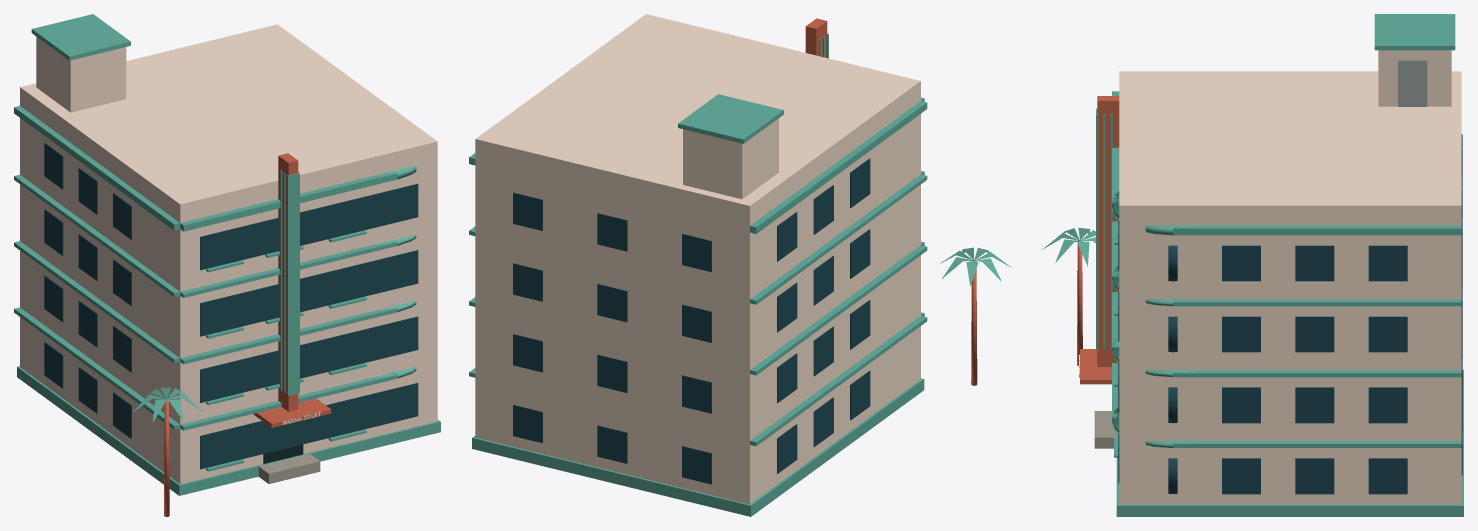
File: oc_apartments_01.glb
3 views of the same model, side by side, from view 1: azimuth 30°, elevation 25°; view 2: azimuth 150°, elevation 25°; view 3: azimuth 270°, elevation 25° (orthographic). The views are drawn at different scales.
Parts seen in each view (by area): view 1: LOD2_OC_Stucco_Blush, LOD1_OC_Deco_Mint, LOD2_OC_Glazing, LOD1_OC_Stucco_Blush, LOD1_OC_Glazing, LOD1_OC_Coral, LOD1_OC_Concrete; view 2: LOD1_OC_Stucco_Blush, LOD2_OC_Stucco_Blush, LOD1_OC_Glazing, LOD1_OC_Deco_Mint, LOD1_OC_Coral; view 3: LOD1_OC_Stucco_Blush, LOD2_OC_Stucco_Blush, LOD1_OC_Deco_Mint, LOD1_OC_Glazing, LOD2_OC_Coral, LOD1_OC_Coral, LOD1_OC_Brushed_Metal, LOD1_OC_Concrete.
Boxes of the visible parts, bbox=[...] form: LOD2_OC_Stucco_Blush: bbox=[20, 24, 437, 484]; LOD1_OC_Deco_Mint: bbox=[14, 14, 440, 495]; LOD2_OC_Glazing: bbox=[200, 183, 418, 469]; LOD1_OC_Stucco_Blush: bbox=[20, 36, 180, 482]; LOD1_OC_Glazing: bbox=[44, 143, 395, 438]; LOD1_OC_Coral: bbox=[164, 153, 331, 516]; LOD1_OC_Concrete: bbox=[258, 454, 320, 483]; LOD1_OC_Stucco_Blush: bbox=[475, 81, 920, 504]; LOD2_OC_Stucco_Blush: bbox=[475, 14, 920, 503]; LOD1_OC_Glazing: bbox=[513, 158, 870, 484]; LOD1_OC_Deco_Mint: bbox=[469, 33, 1011, 516]; LOD1_OC_Coral: bbox=[805, 18, 977, 385]; LOD1_OC_Stucco_Blush: bbox=[1173, 50, 1461, 504]; LOD2_OC_Stucco_Blush: bbox=[1119, 71, 1461, 504]; LOD1_OC_Deco_Mint: bbox=[1042, 14, 1463, 516]; LOD1_OC_Glazing: bbox=[1118, 134, 1462, 494]; LOD2_OC_Coral: bbox=[1097, 98, 1119, 366]; LOD1_OC_Coral: bbox=[1077, 96, 1119, 384]; LOD1_OC_Brushed_Metal: bbox=[1398, 60, 1427, 106]; LOD1_OC_Concrete: bbox=[1094, 411, 1116, 448].
Size of the model in its own units: 16.45 by 16.8 by 17.3.
